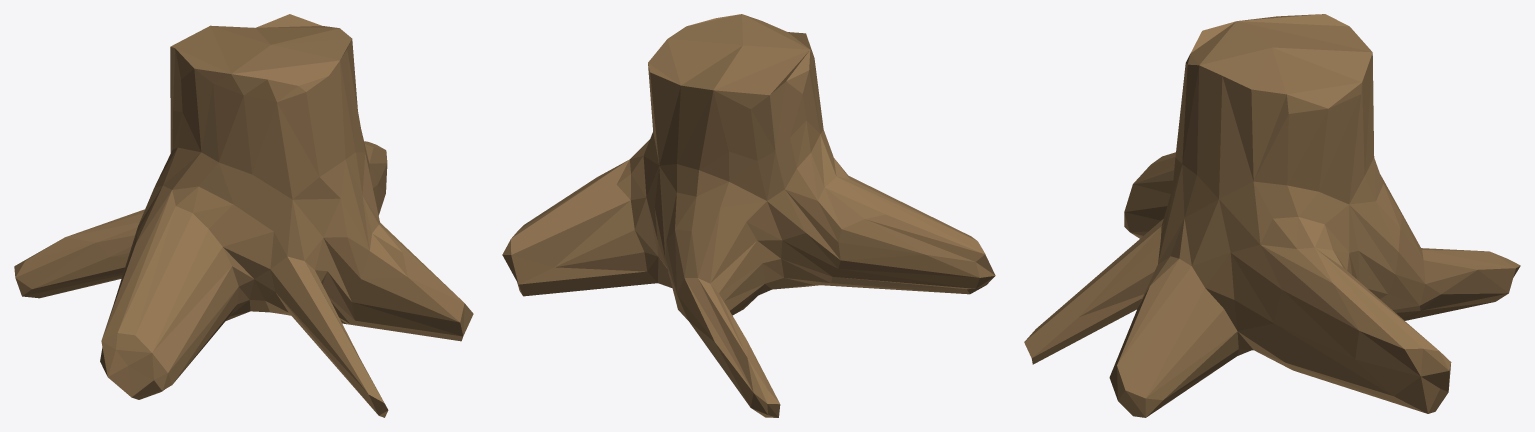
Rendered from Baumstumpf_mesh_LOD.fbx.
3 views of the same model, side by side, from view 1: azimuth 30°, elevation 25°; view 2: azimuth 150°, elevation 25°; view 3: azimuth 270°, elevation 25° (orthographic). The views are drawn at different scales.
Visible parts, largest first — view 1: BaumStumpf1_LOD0; view 2: BaumStumpf1_LOD0; view 3: BaumStumpf1_LOD0.
Part boxes in pixels (x1,y1,x2,y2): BaumStumpf1_LOD0: (14,14,473,417); BaumStumpf1_LOD0: (502,14,995,417); BaumStumpf1_LOD0: (1024,14,1520,417).
Size of what is drawn, in the model's own units: 24.19 by 17.3 by 24.17.
